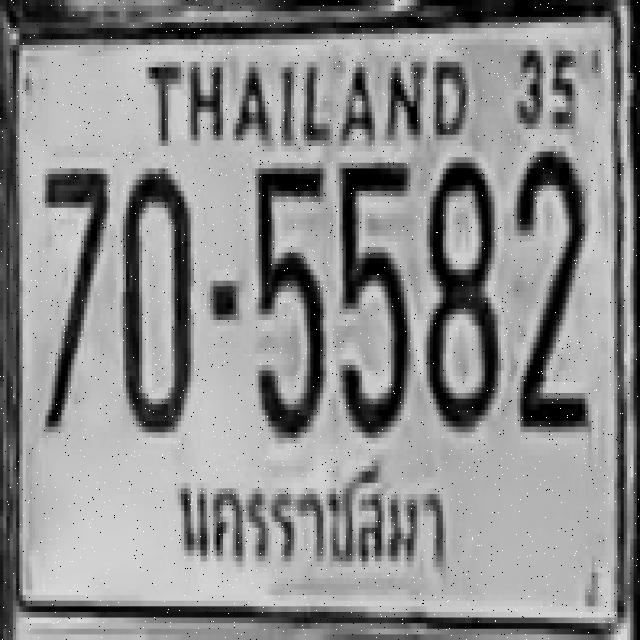0: (120, 162, 190, 426)
2: (516, 146, 584, 421)
5: (336, 157, 411, 437), (255, 162, 327, 438)
7: (42, 162, 106, 426)
8: (424, 154, 499, 430)
NakhonRatchasima: (170, 447, 449, 590)
